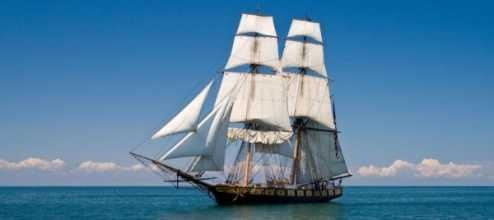fanchuan: (132, 12, 353, 204)
